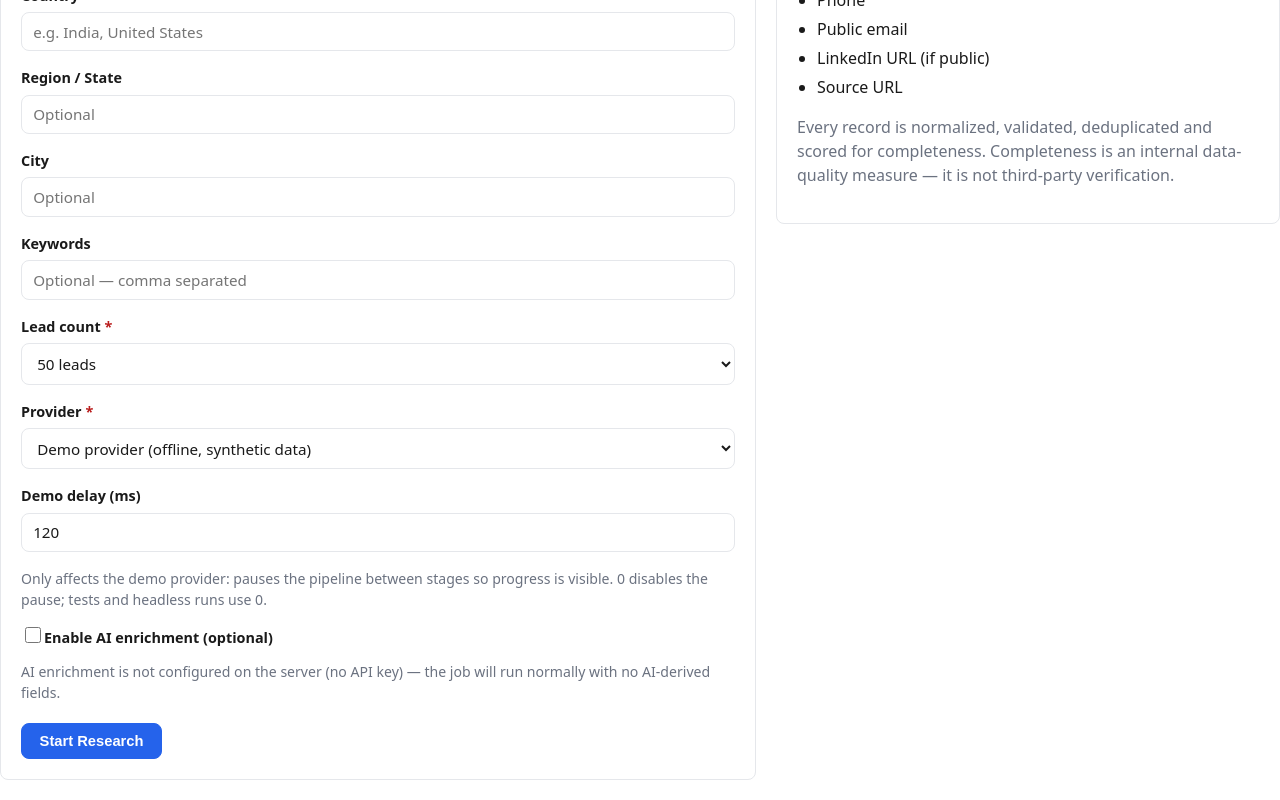
Test: NewResearch › validates required fields before submitting
(page scrolled)
Click the button "Start Research". click: (92, 741)
box: [21,723,162,759]
(page scrolled)
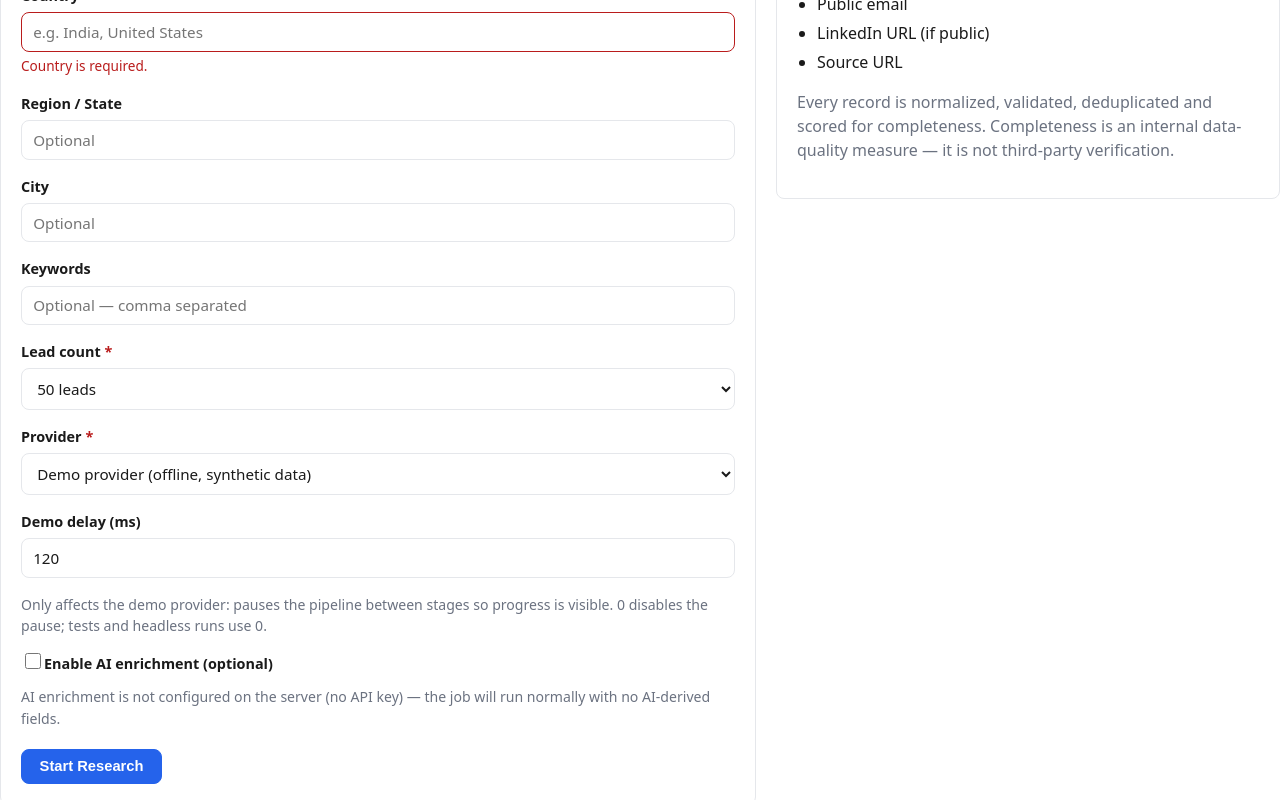
Result: the text "Country is required." is shown at [21,56,148,75]
